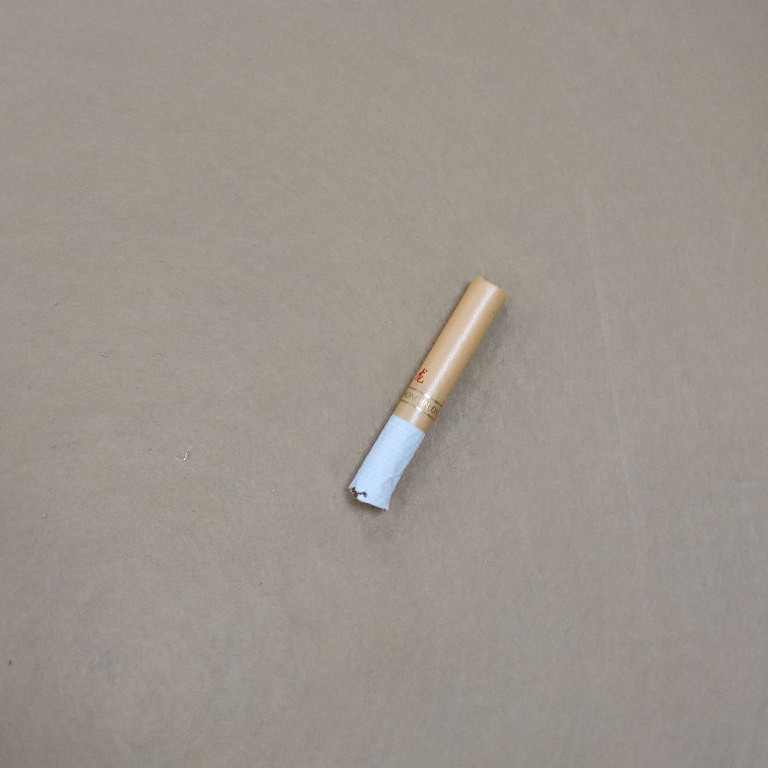cigarette: (343, 270, 509, 516)
